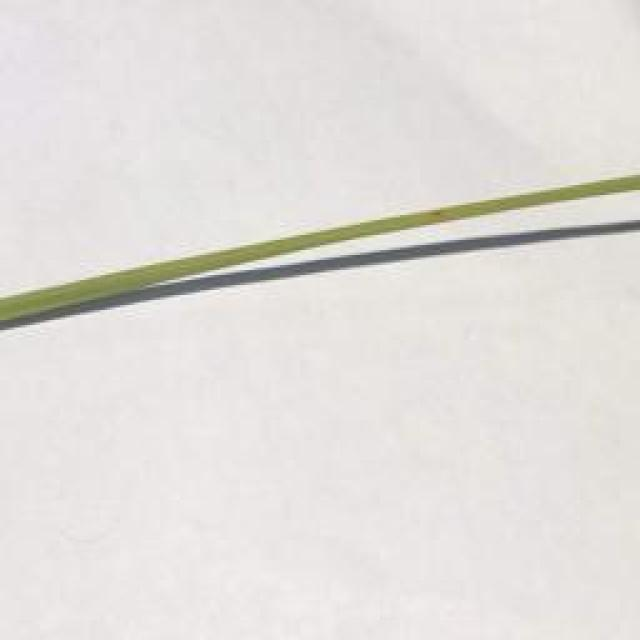Brown_Spot: (426, 206, 449, 220)
